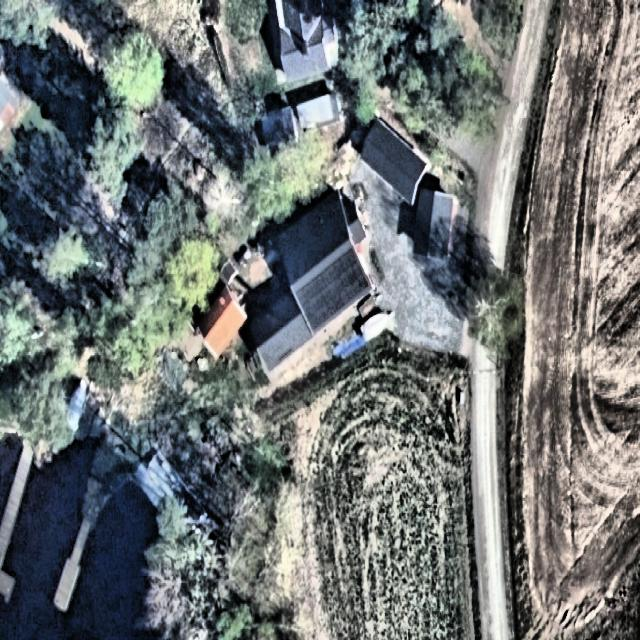roof_pv: (295, 246, 371, 332)
